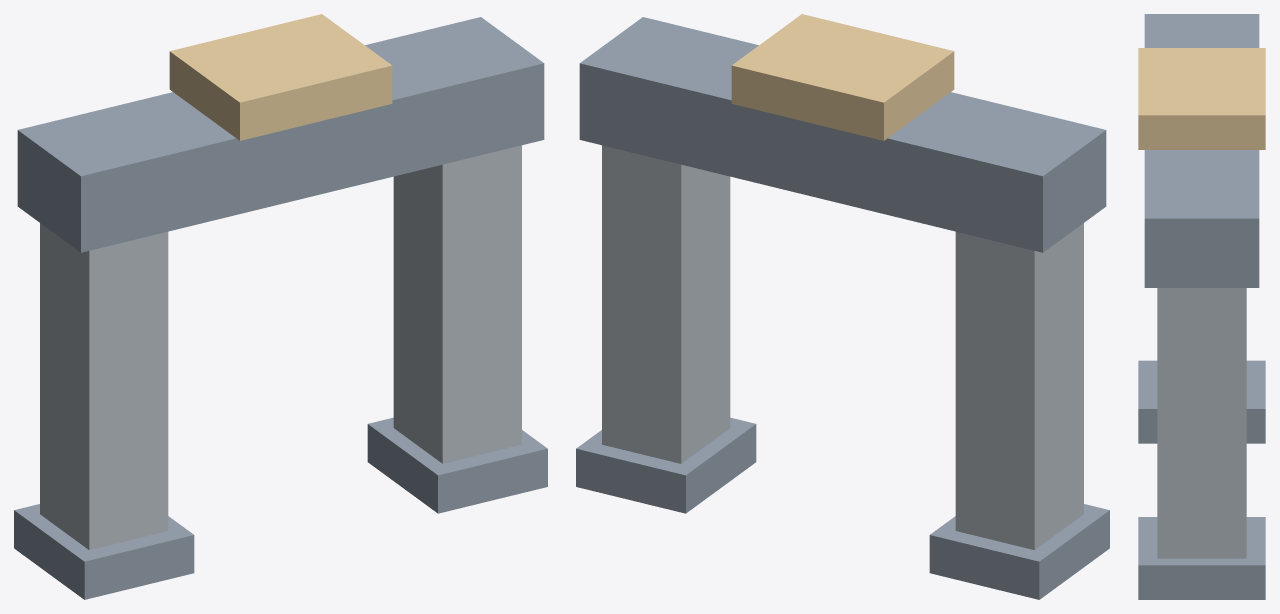
Rendered from ruin_arch.glb.
3 renders of one model, left to right at view 1: azimuth 30°, elevation 25°; view 2: azimuth 150°, elevation 25°; view 3: azimuth 270°, elevation 25°, orthographic. The views are drawn at different scales.
Visible parts, largest first — view 1: Lintel, Left pillar, Right pillar, Crown, Left foot, Right foot; view 2: Lintel, Left pillar, Right pillar, Crown, Left foot, Right foot; view 3: Right pillar, Lintel, Crown, Right foot, Left foot.
Boxes of the visible parts, x1,y1,x2,y2 form: Lintel: [17, 17, 544, 252]; Left pillar: [40, 223, 168, 550]; Right pillar: [393, 145, 521, 463]; Crown: [169, 14, 392, 140]; Left foot: [14, 504, 194, 599]; Right foot: [367, 417, 547, 513]; Lintel: [579, 17, 1106, 252]; Left pillar: [955, 223, 1083, 550]; Right pillar: [602, 145, 730, 463]; Crown: [731, 14, 954, 140]; Left foot: [929, 504, 1109, 599]; Right foot: [576, 417, 756, 513]; Right pillar: [1157, 288, 1246, 558]; Lintel: [1144, 14, 1259, 287]; Crown: [1138, 48, 1265, 149]; Right foot: [1138, 517, 1265, 599]; Left foot: [1138, 360, 1265, 443].
Bounding box in the file's own units: 4.75 × 4.5 × 1.25.
